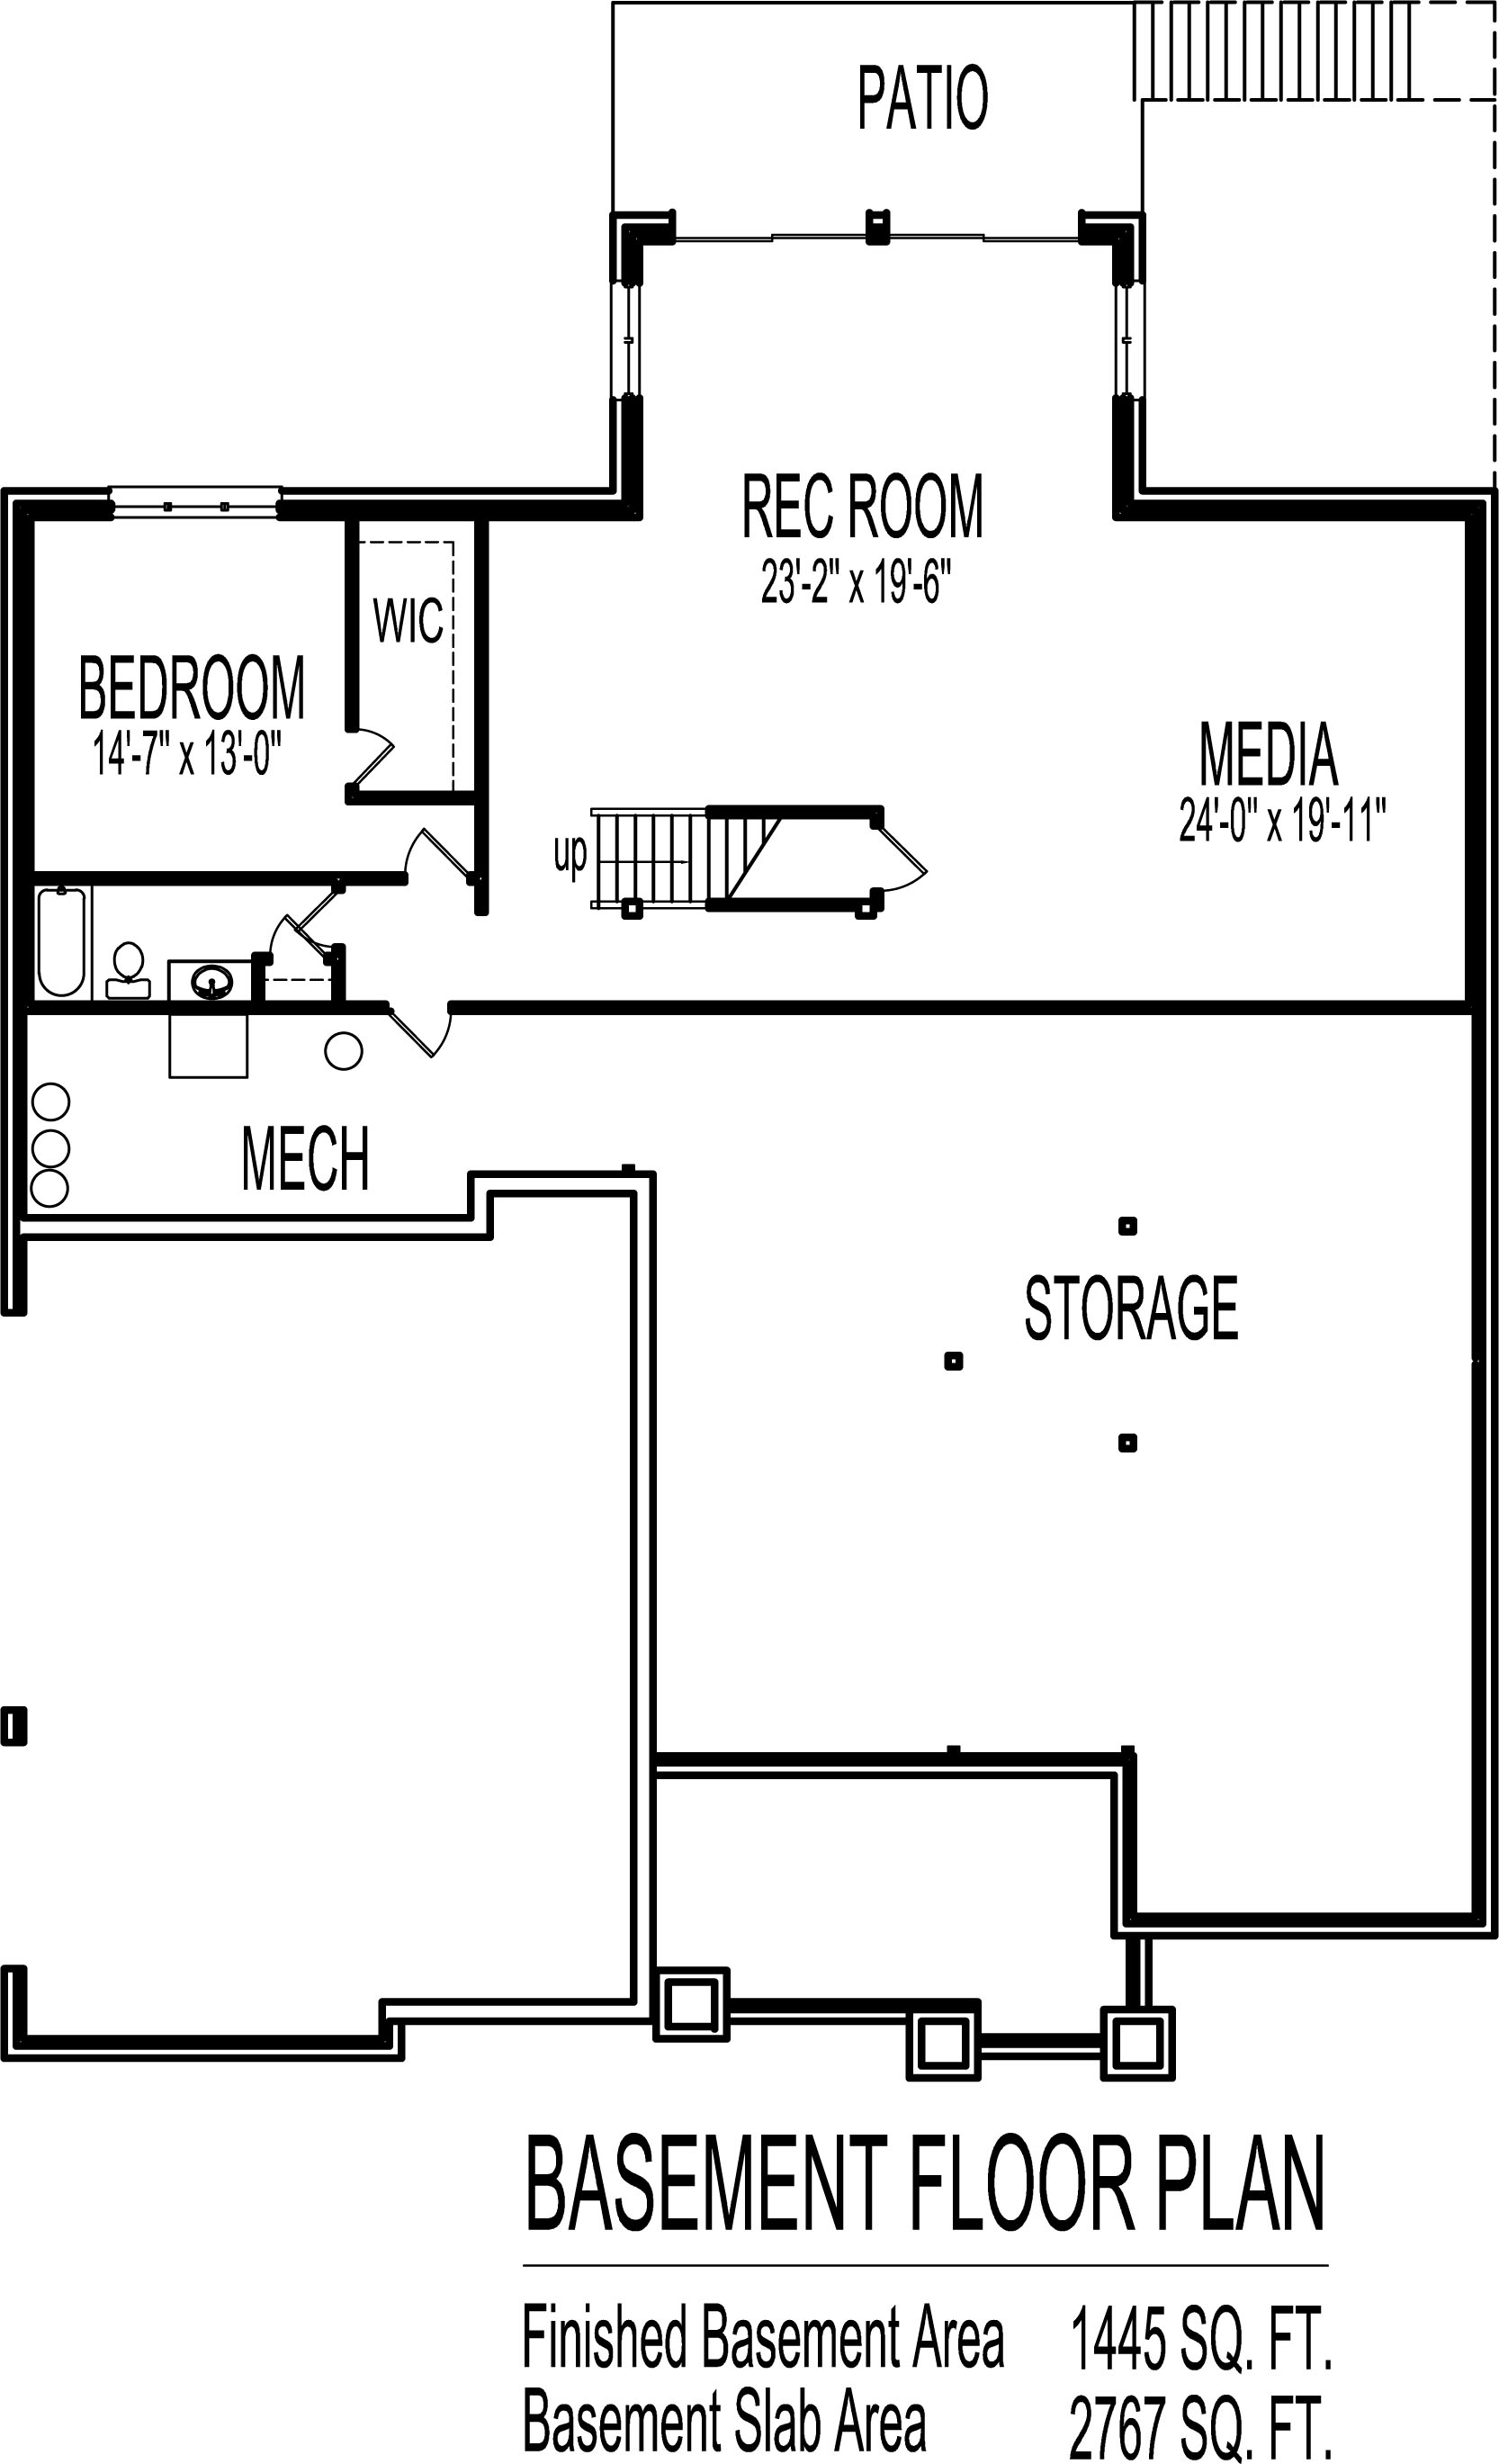door: (380, 1008, 479, 1075), (387, 824, 466, 892), (354, 708, 403, 780)
window: (102, 489, 282, 530), (1100, 271, 1158, 387), (607, 287, 662, 392)
